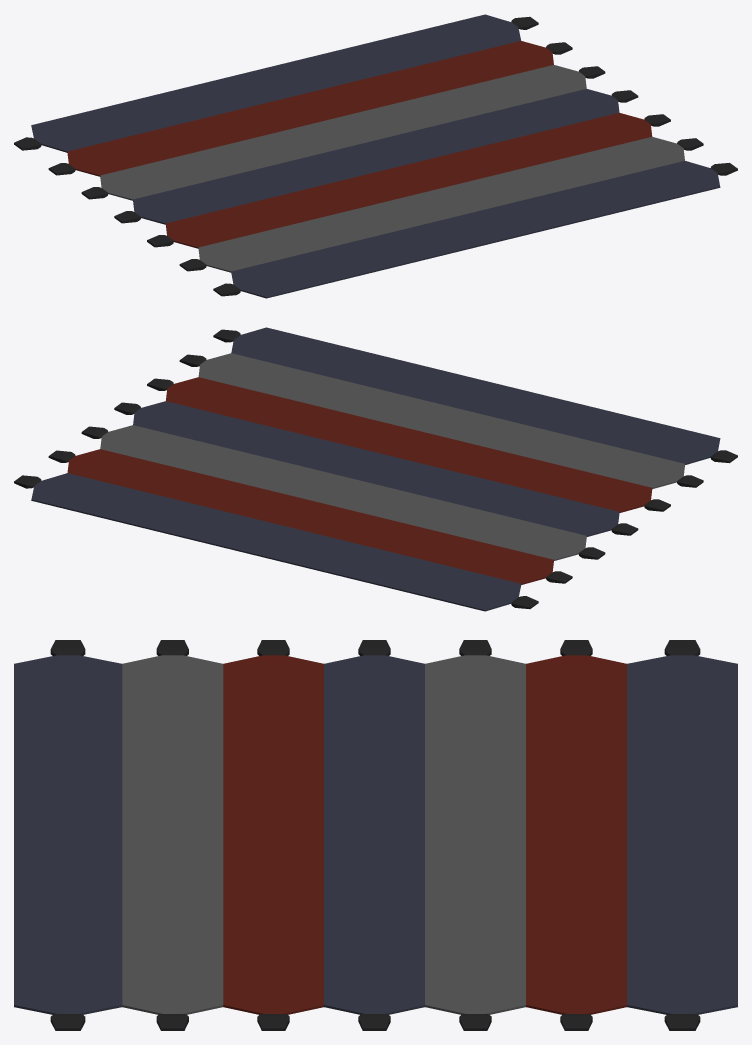
Rendered from Carpeta.fbx.
The picture shows the model from 3 angles, top to bottom: view 1: azimuth 30°, elevation 25°; view 2: azimuth 150°, elevation 25°; view 3: azimuth 270°, elevation 25°; orthographic projection. The views are drawn at different scales.
Visible parts, largest first — view 1: Carpeta; view 2: Carpeta; view 3: Carpeta.
Boxes of the visible parts, bbox=[...] form: Carpeta: bbox=[14, 14, 737, 298]; Carpeta: bbox=[14, 327, 737, 611]; Carpeta: bbox=[14, 640, 737, 1030].
Bounding box in the file's own units: 9.7 × 0.0616 × 7.64.
